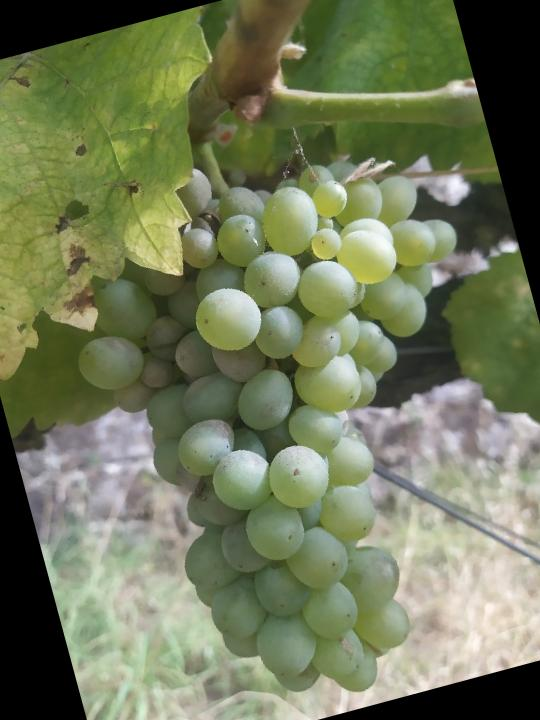grape: (31, 105, 540, 720)
